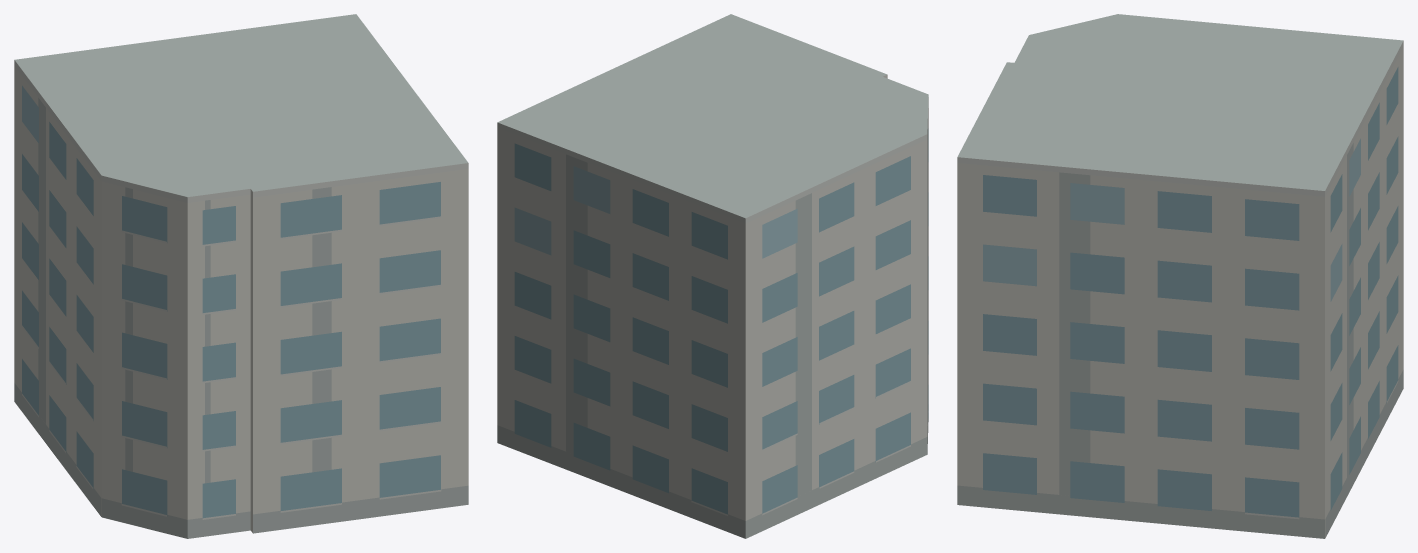
File: survey-upis-32944828.glb
3 views of the same model, side by side, from view 1: azimuth 30°, elevation 25°; view 2: azimuth 150°, elevation 25°; view 3: azimuth 270°, elevation 25° (orthographic). The views are drawn at different scales.
Visible parts, largest first — view 1: survey-upis-32944828.tmp; view 2: survey-upis-32944828.tmp; view 3: survey-upis-32944828.tmp.
Boxes of the visible parts, x1=… form: survey-upis-32944828.tmp: x1=14, y1=14, x2=468, y2=538; survey-upis-32944828.tmp: x1=497, y1=14, x2=928, y2=538; survey-upis-32944828.tmp: x1=957, y1=14, x2=1403, y2=538.
Bounding box in the file's own units: 15.84 × 14.5 × 16.88.
